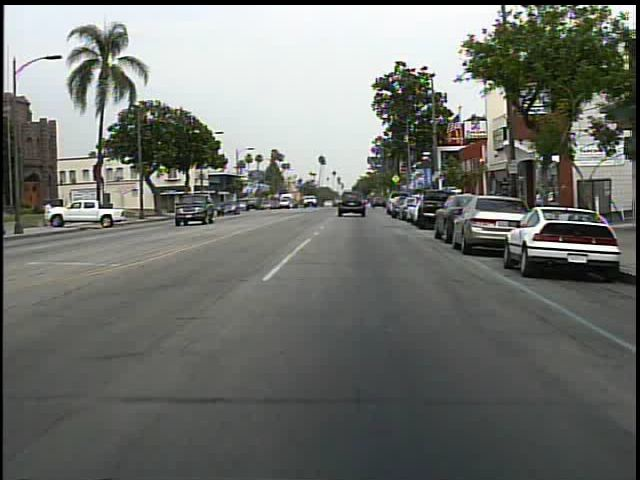person: (342, 188, 365, 219), (43, 198, 58, 225)
